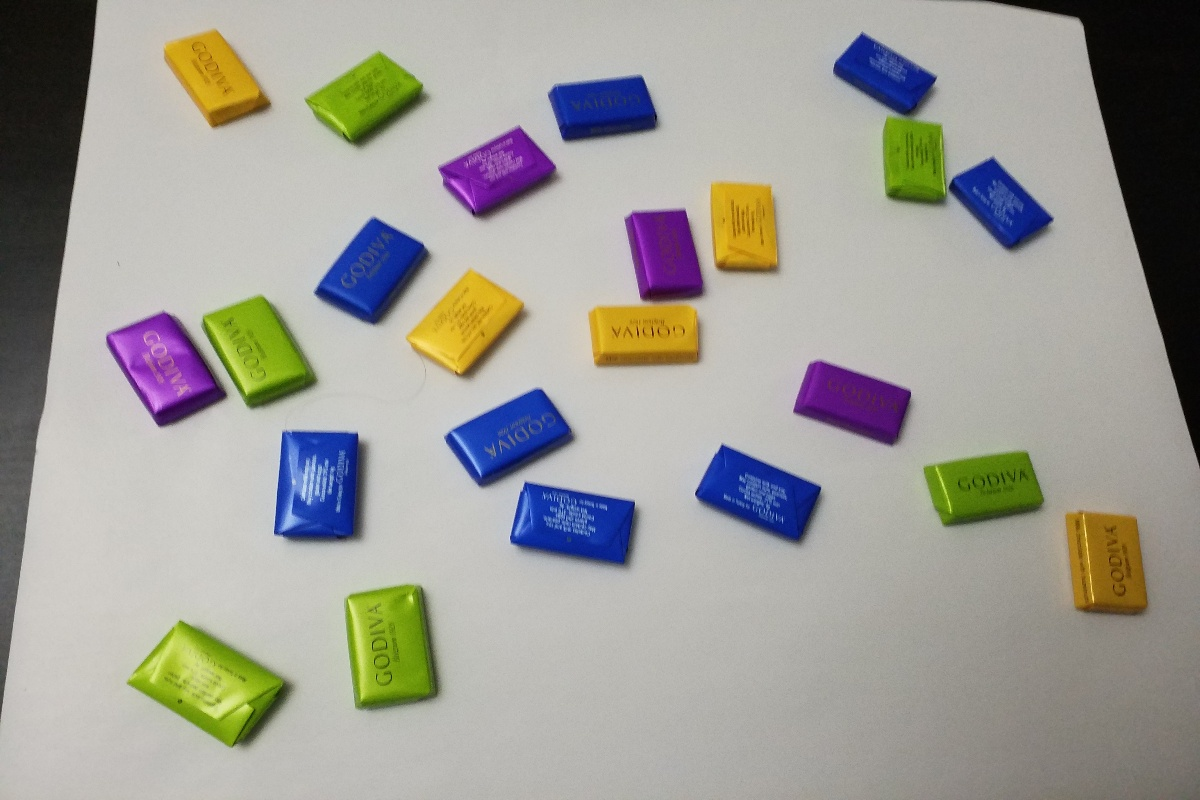chocolate_blue: (304, 206, 434, 332), (689, 435, 826, 550), (263, 420, 373, 544), (504, 476, 642, 572), (822, 26, 944, 117), (542, 70, 665, 144)
chocolate_green: (111, 612, 295, 754), (334, 571, 448, 719), (196, 284, 322, 410), (301, 46, 427, 150), (918, 450, 1053, 526)
chocolate_purple: (95, 306, 232, 437), (785, 352, 918, 453), (436, 120, 562, 224), (617, 200, 710, 300)
chocolate_yellow: (155, 24, 276, 131), (1064, 500, 1153, 629), (580, 300, 708, 369), (705, 171, 785, 280)
